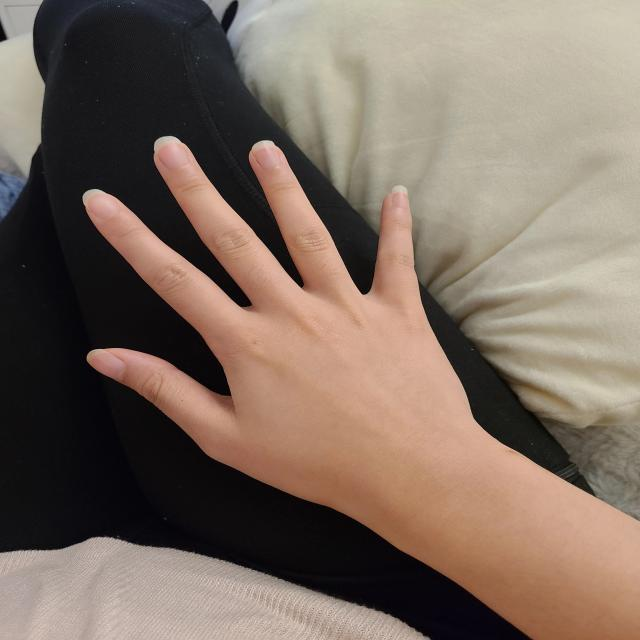bare_hand: (81, 134, 492, 524)
